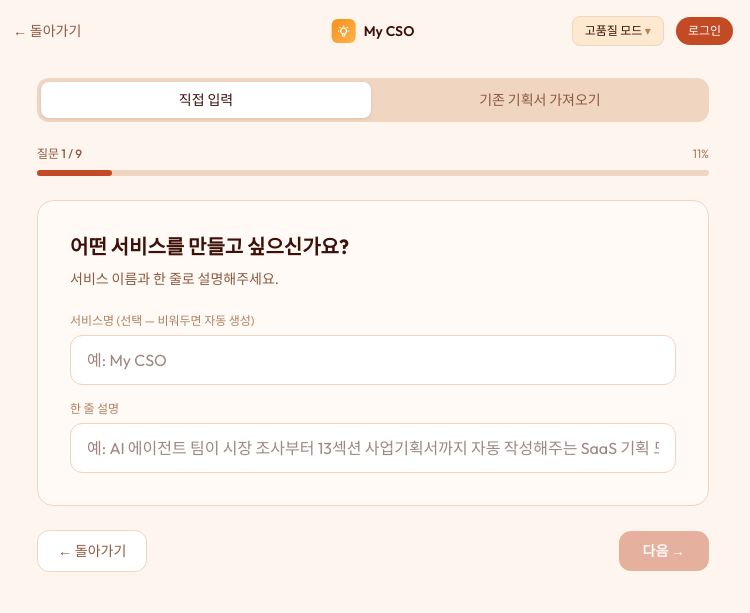
Test: Guided Page Integration › shows paste textarea when paste button is clicked
The image size is (750, 613).
Click the button "기존 기획서 가져오기" at x=540, y=100, box 375,82 -> 705,118
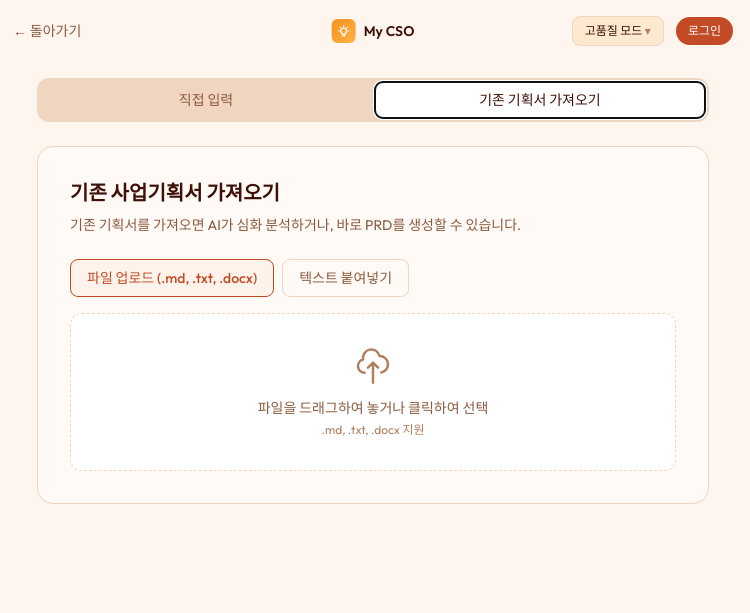
Click the button "텍스트 붙여넣기" at x=346, y=278, box 282,259 -> 409,297
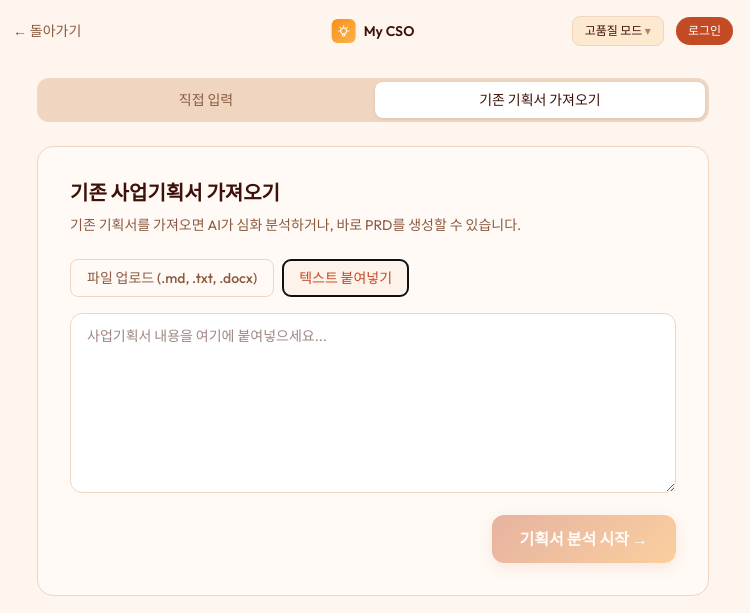
Result: the text box with placeholder "사업기획서 내용을 여기에 붙여넣으세요..." is shown at 70,313 -> 676,493
Result: the button "기획서 분석 시작 →" is shown at 492,515 -> 676,563
